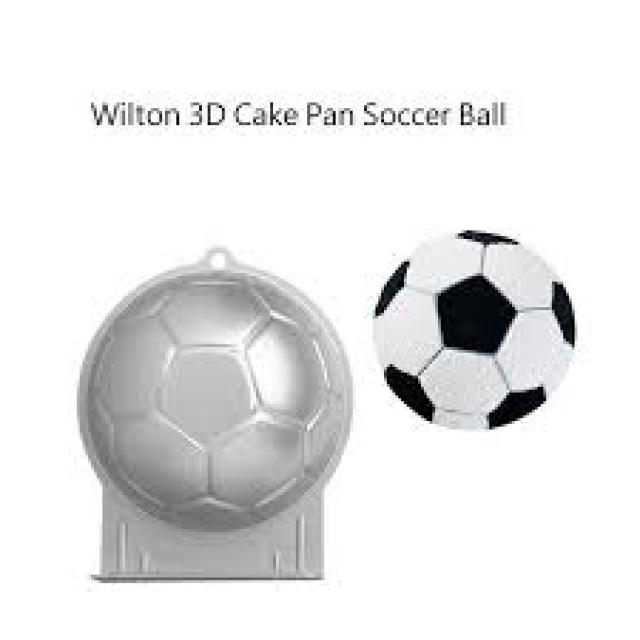football: (373, 225, 580, 435)
